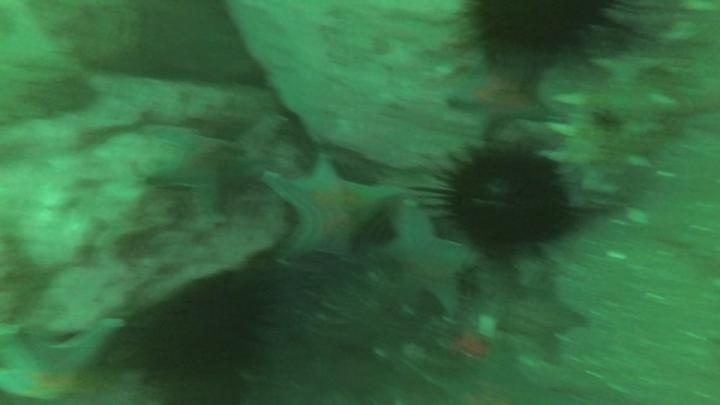echinus: (124, 270, 276, 398), (433, 144, 576, 261), (462, 1, 625, 61)
holothurian: (539, 48, 692, 215)
starfish: (261, 152, 405, 266), (143, 123, 260, 232), (375, 201, 478, 320), (1, 314, 129, 401), (443, 51, 559, 142), (425, 313, 522, 401)
